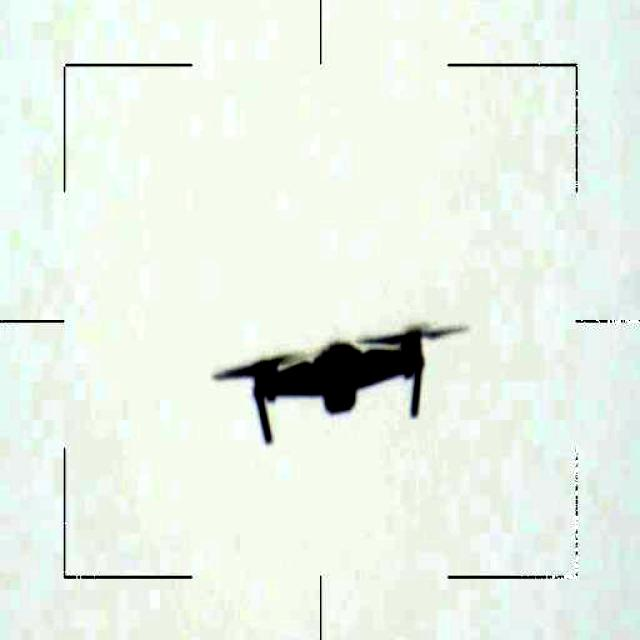bird: (202, 324, 472, 448)
